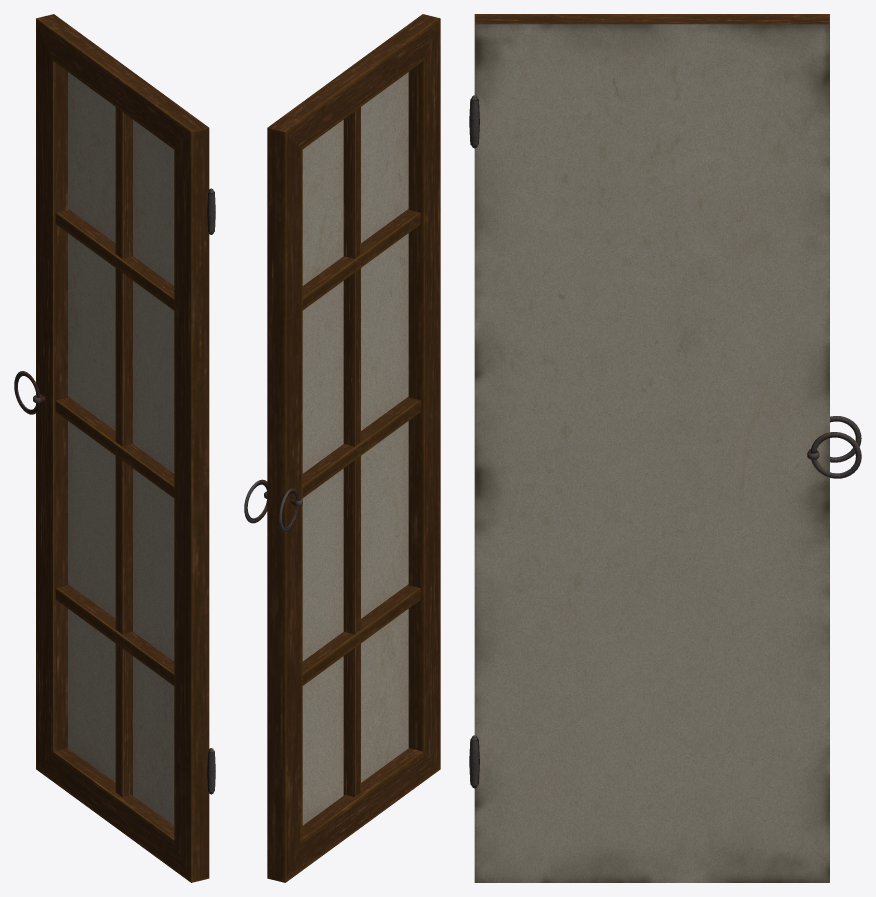
File: SM_Door01h_02.fbx
3 views of the same model, side by side, from view 1: azimuth 30°, elevation 25°; view 2: azimuth 150°, elevation 25°; view 3: azimuth 270°, elevation 25° (orthographic). The views are drawn at different scales.
Parts seen in each view (by area): view 1: SM_Door01h_02; view 2: SM_Door01h_02; view 3: SM_Door01h_02.
Part boxes in pixels (x1,y1,x2,y2): SM_Door01h_02: (14,14,215,882); SM_Door01h_02: (244,14,440,882); SM_Door01h_02: (469,14,861,882).
Size of the model in its own units: 8.48 by 160 by 66.27.
1 material, 1 textured.
